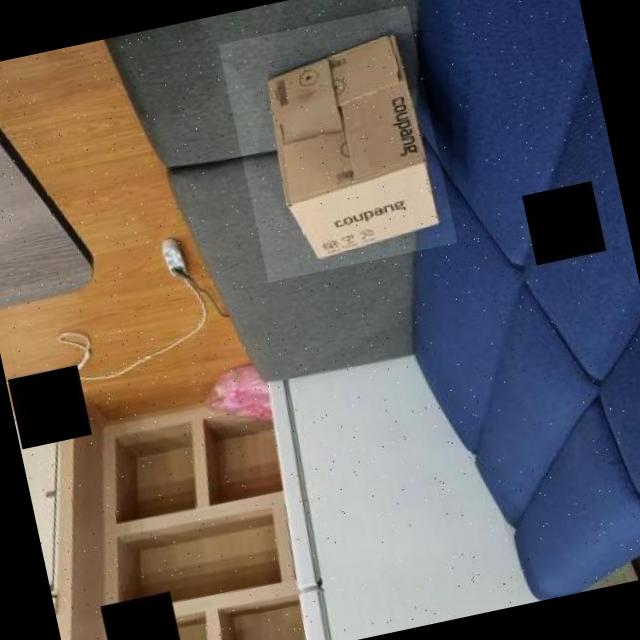box: (216, 4, 456, 282)
